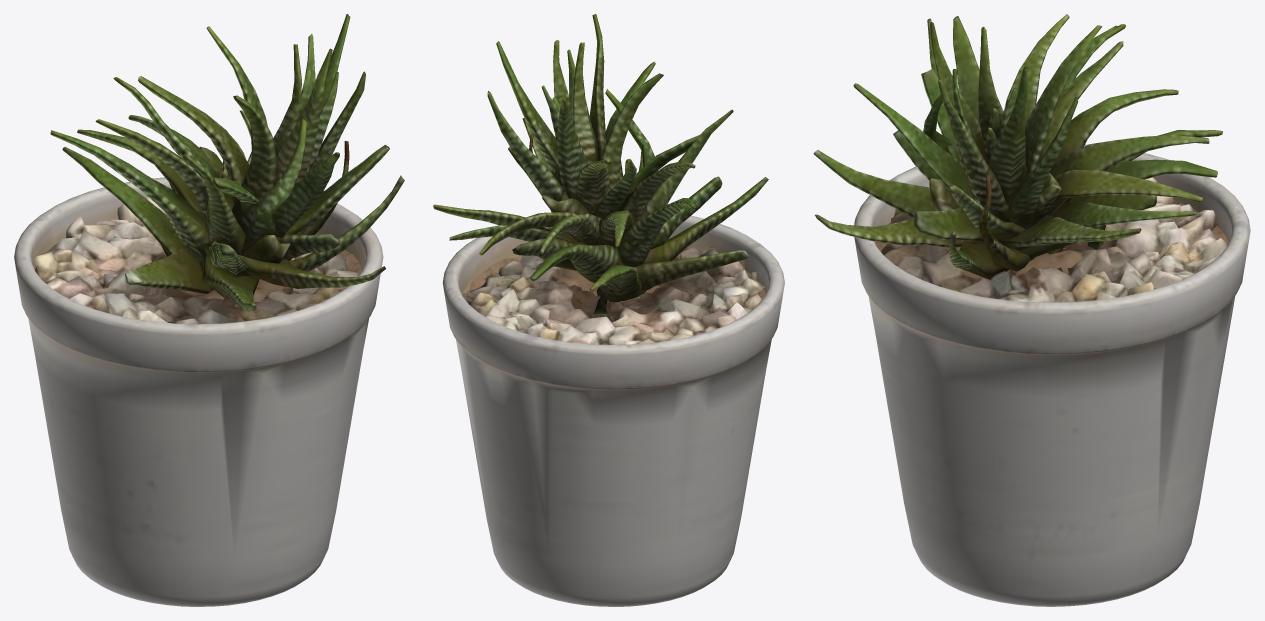
The model's file is potted_plant_04.glb.
3 renders of one model, left to right at view 1: azimuth 30°, elevation 25°; view 2: azimuth 150°, elevation 25°; view 3: azimuth 270°, elevation 25°, orthographic. The views are drawn at different scales.
Visible parts, largest first — view 1: potted_plant_04_ground; view 2: potted_plant_04_ground; view 3: potted_plant_04_ground.
Boxes of the visible parts, left/top/right/bottom form: potted_plant_04_ground: left=14, top=14, right=404, bottom=606; potted_plant_04_ground: left=433, top=14, right=784, bottom=606; potted_plant_04_ground: left=813, top=14, right=1250, bottom=606.
Bounding box in the file's own units: 0.1679 × 0.2675 × 0.1847.
Materials: 1 (1 with a texture image).
